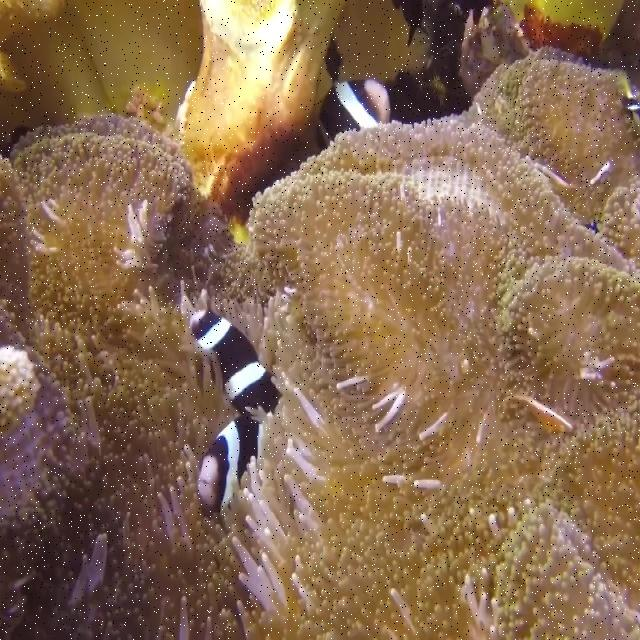fish: (190, 309, 280, 412), (195, 416, 263, 519), (313, 79, 390, 149)
reefs: (0, 49, 639, 639)
